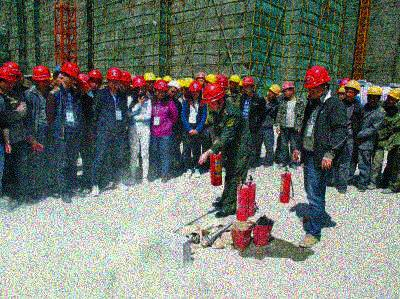helmet: (302, 65, 330, 99), (202, 83, 227, 112), (2, 62, 24, 91), (59, 60, 78, 88), (31, 64, 50, 91), (1, 66, 18, 91), (366, 85, 384, 107), (105, 67, 122, 90), (343, 80, 362, 99), (131, 75, 147, 97), (76, 72, 91, 95), (87, 68, 103, 89), (385, 86, 400, 108), (142, 71, 157, 91), (154, 79, 169, 99), (240, 76, 256, 94), (52, 64, 65, 86), (167, 79, 182, 98), (189, 80, 203, 100), (181, 76, 194, 96), (280, 82, 295, 99), (267, 83, 280, 100), (228, 73, 240, 90), (121, 70, 132, 88), (337, 84, 348, 100), (194, 70, 205, 80)
